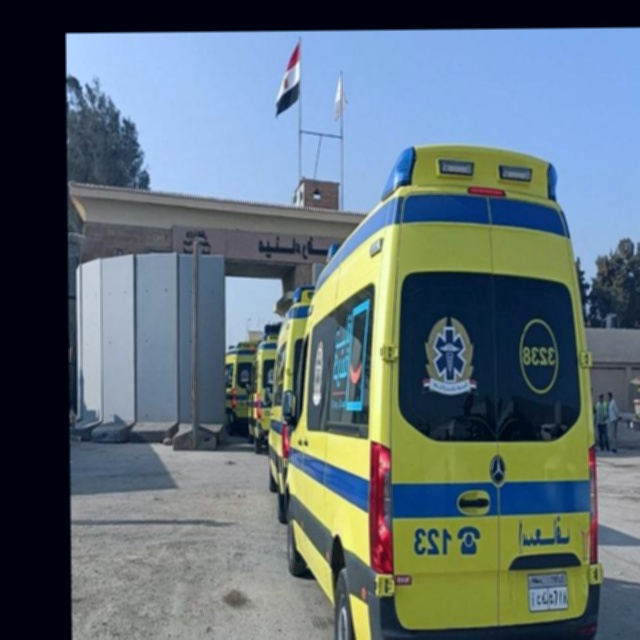Ambulance: (280, 141, 605, 640)
person: (607, 391, 621, 452), (596, 392, 610, 451)
